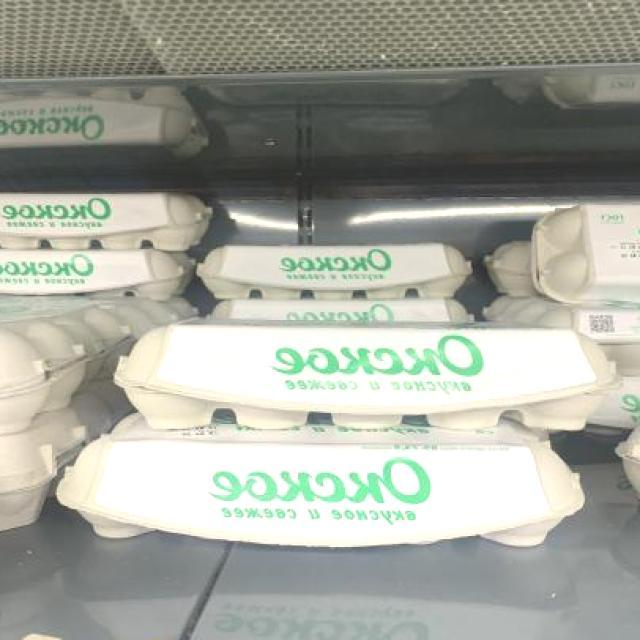egg: (53, 425, 585, 551), (112, 322, 612, 431), (198, 238, 476, 300), (0, 189, 216, 251), (0, 249, 199, 300)
